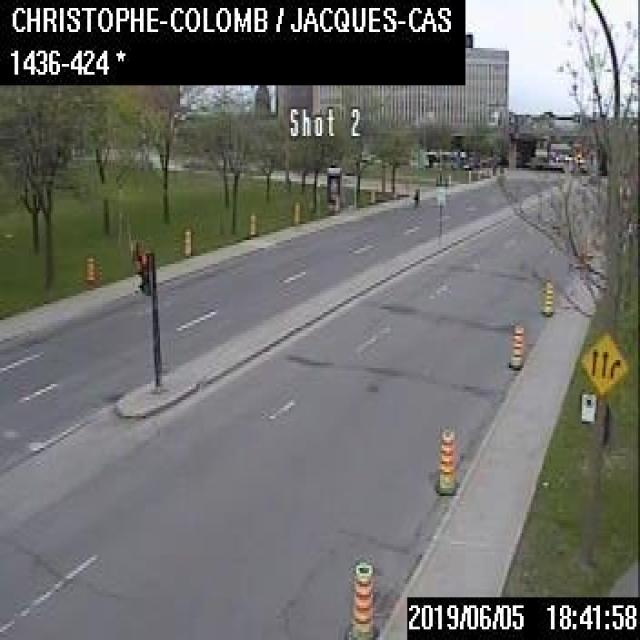bus: (422, 148, 466, 167)
construction: (348, 560, 377, 637), (434, 427, 456, 496), (507, 320, 524, 370), (541, 278, 552, 315), (84, 252, 94, 282), (182, 224, 191, 256), (247, 208, 256, 234), (291, 198, 300, 222), (368, 186, 374, 202)
cyclist: (411, 184, 420, 211)
